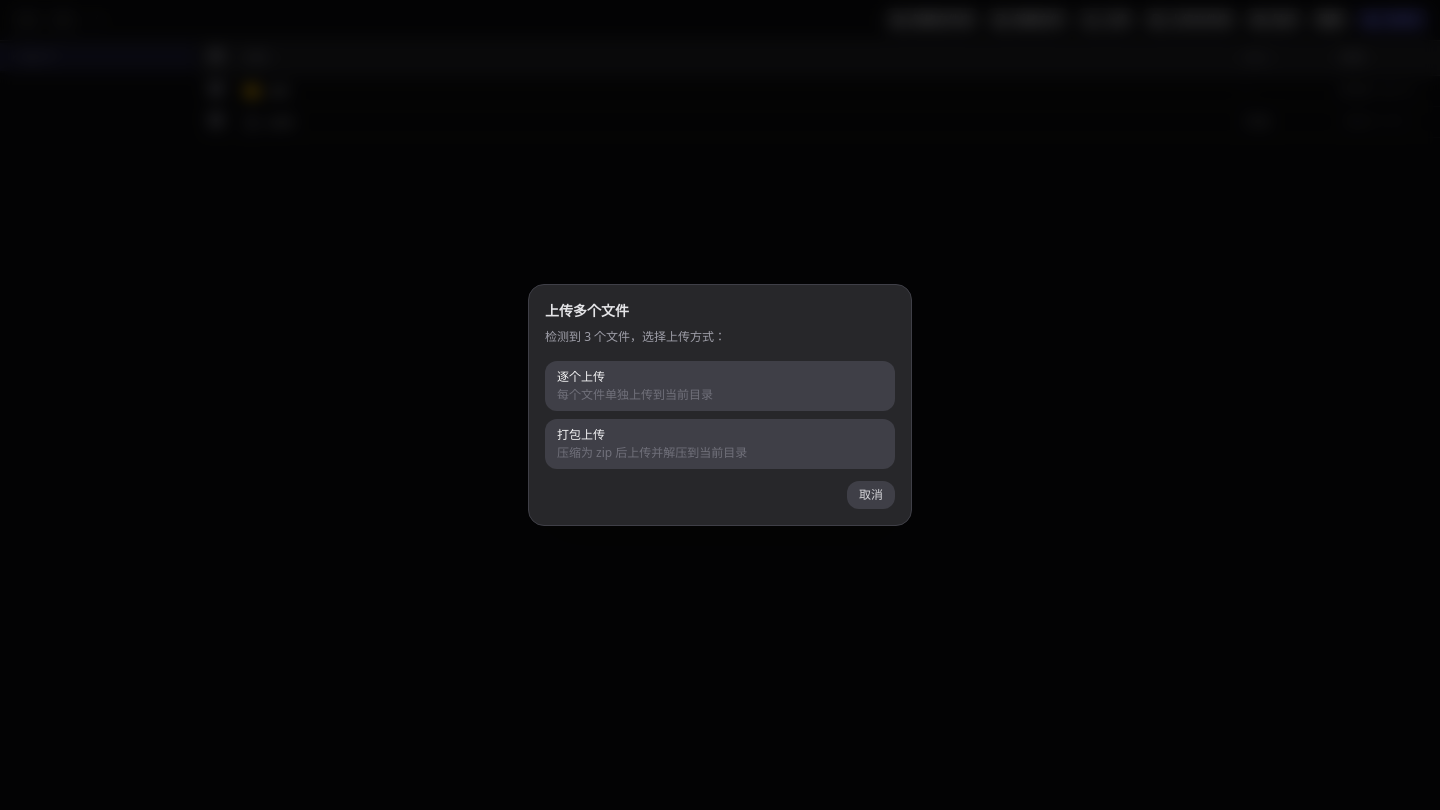
Scenario: FileManagerPanel 拖拽打包上传 › 部分失败仍继续上传，但显眼提示缺了哪些条目
Click the button "打包上传 压缩为 zip 后上传并解压到当前目录" at x=720, y=444, box [545,419,895,469]
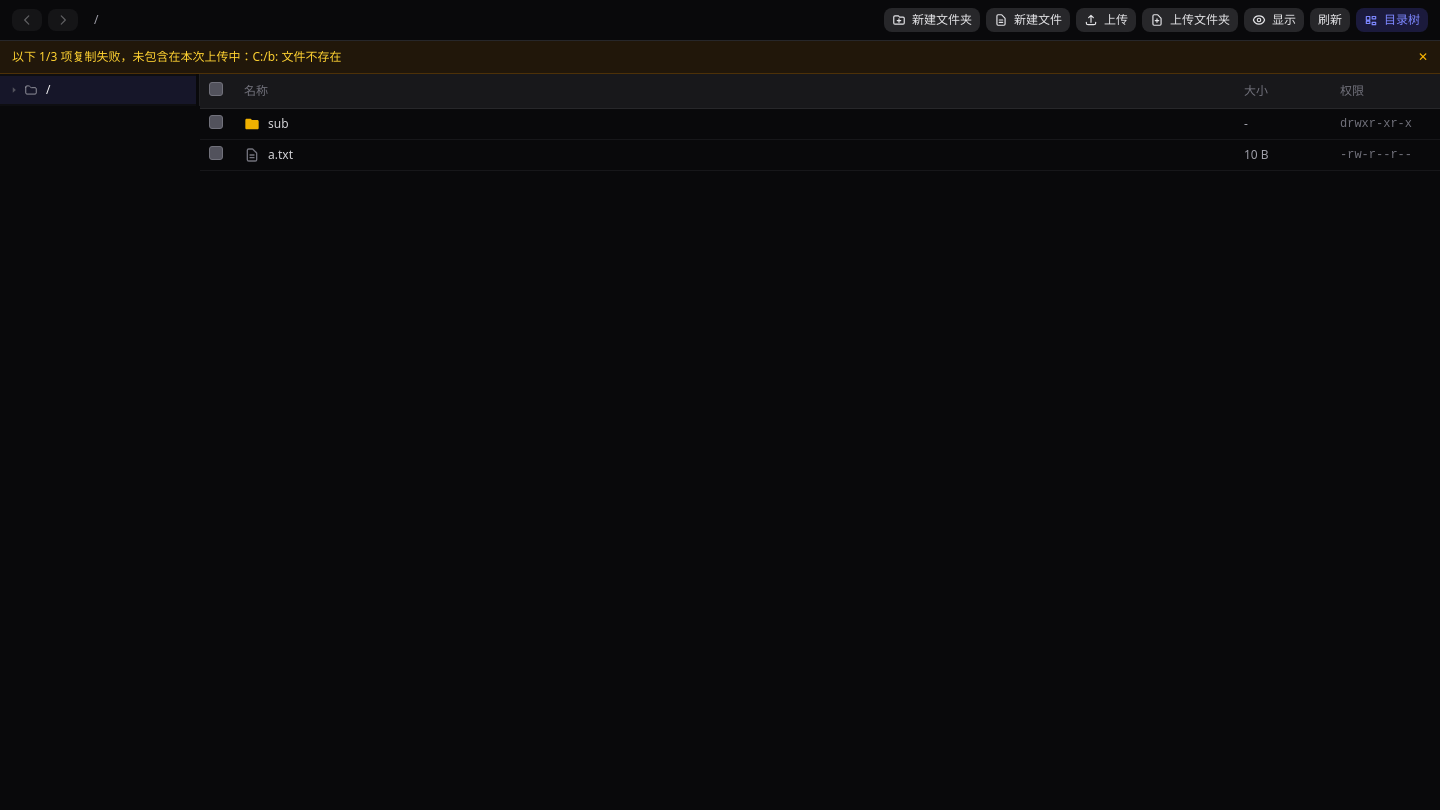
Expected: the text "以下 1/3 项复制失败" is shown, [12,48,341,65]
Expected: the text "C:/b: 文件不存在" is shown, [12,48,341,65]
